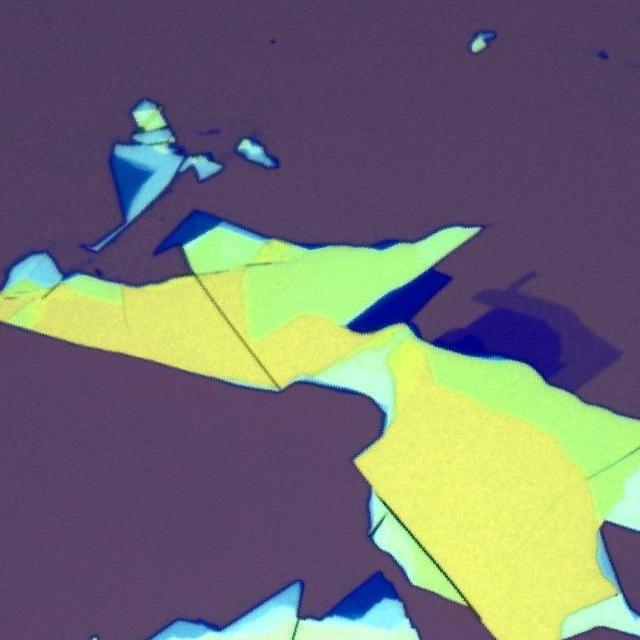monolayer-eWW4: (486, 281, 627, 392)
